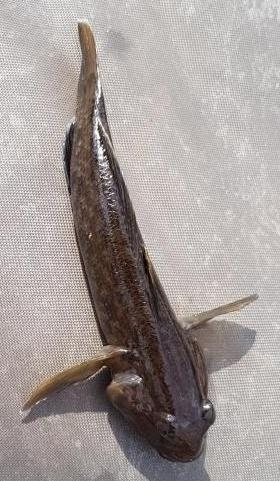Goby: (18, 13, 260, 460)
